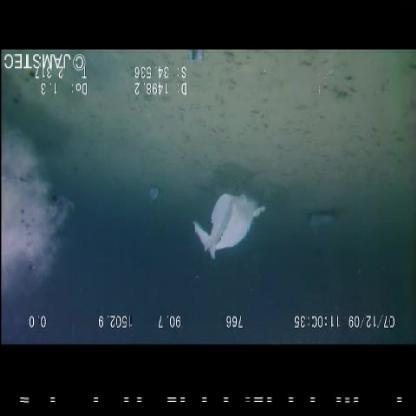Rác: (188, 184, 268, 262)
